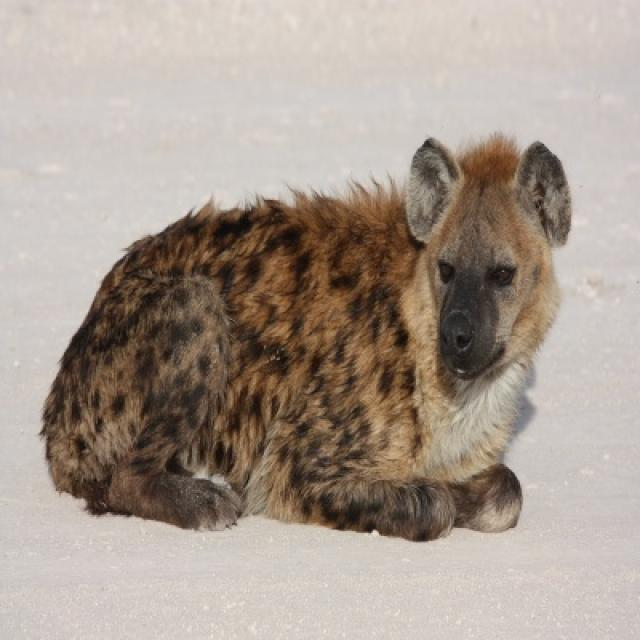hyena: (40, 134, 570, 541)
